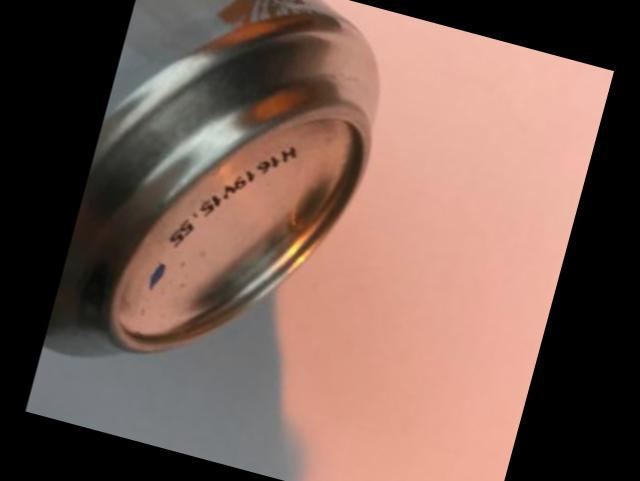metal: (44, 0, 381, 353)
